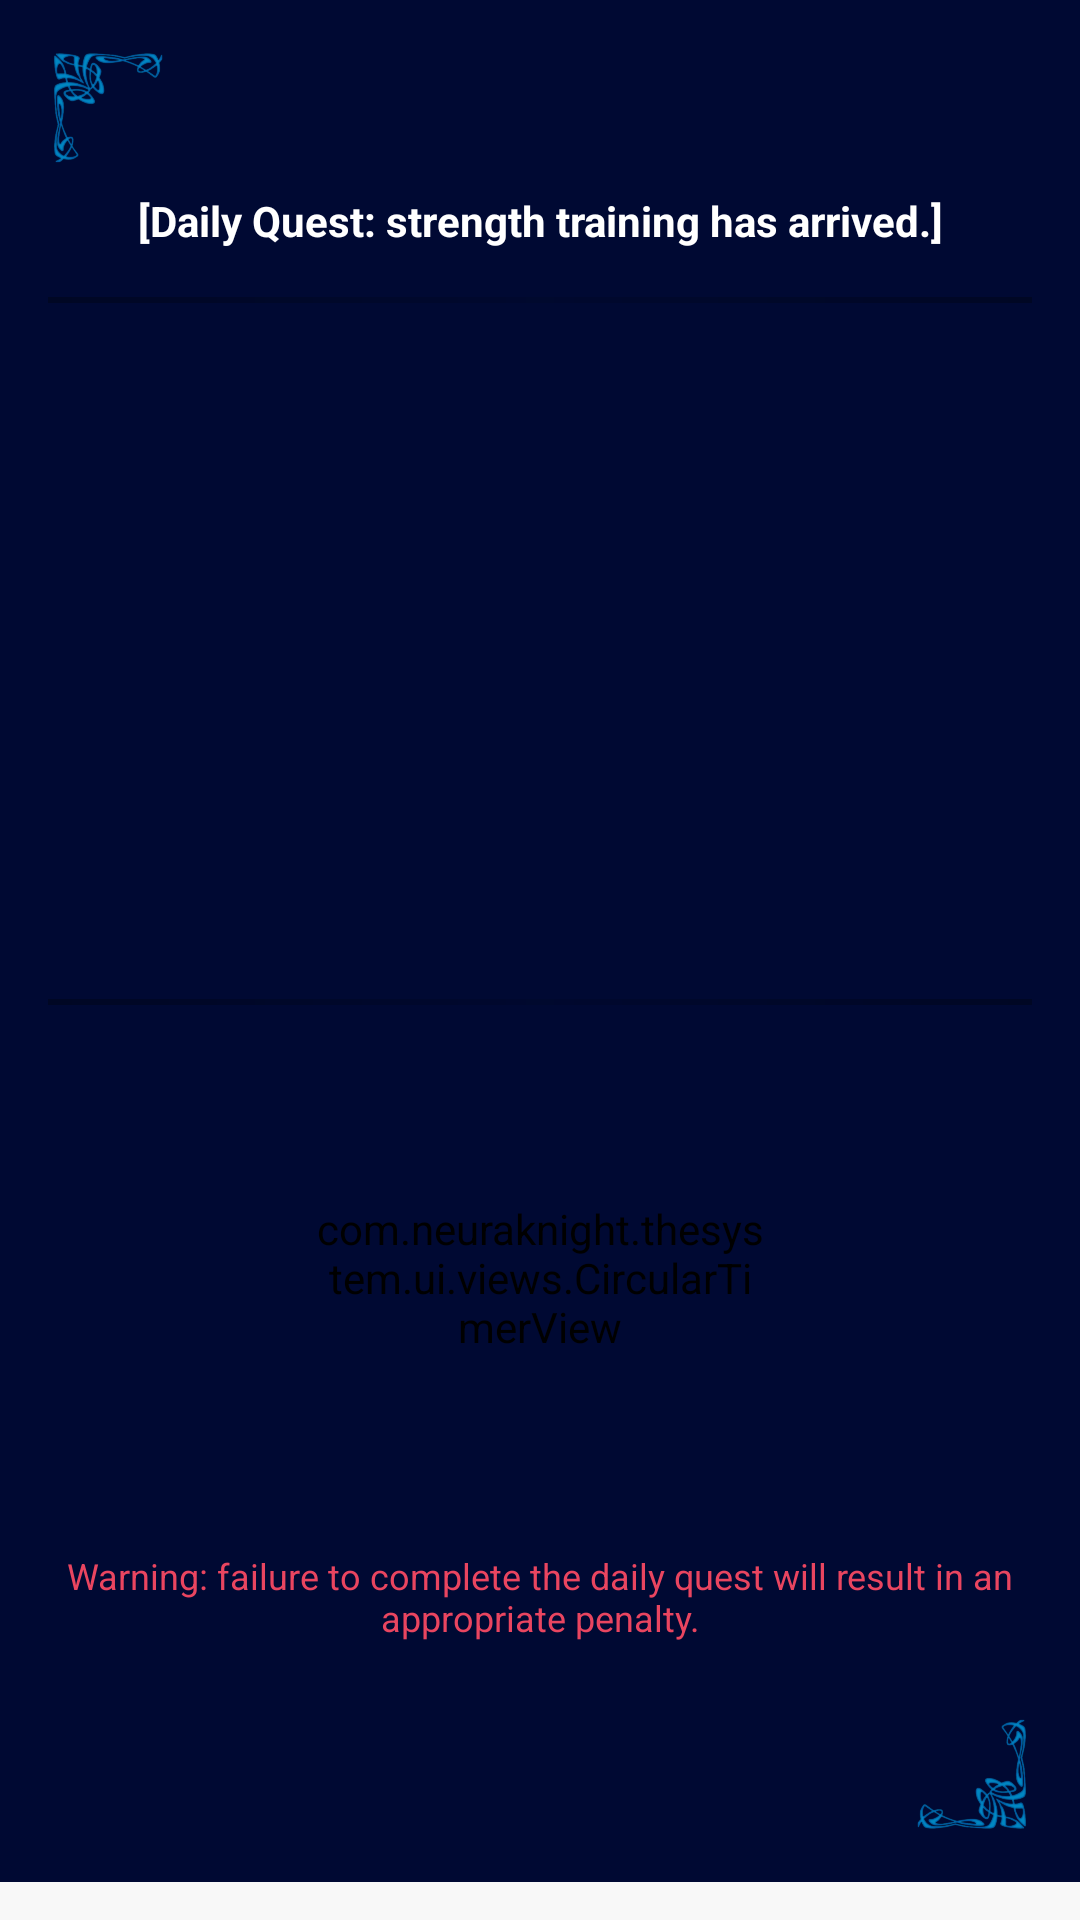

Named icons in this screenshot (1080px x 1920px) and their centers, [x,y]:
brcorner: [972,1774]
tlcorner: [108,107]
